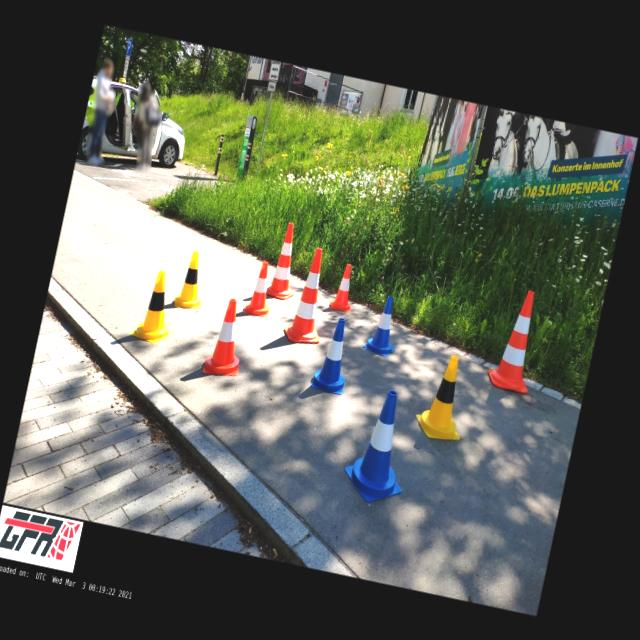blue_cone: (338, 383, 422, 509), (310, 314, 357, 395), (361, 291, 405, 358)
large_orange_cone: (484, 284, 548, 394), (283, 244, 338, 347), (264, 221, 308, 301)
orange_cone: (202, 296, 252, 378), (243, 258, 279, 318), (328, 261, 359, 312)
yellow_cone: (411, 350, 476, 444), (128, 268, 185, 346), (172, 248, 212, 312)
